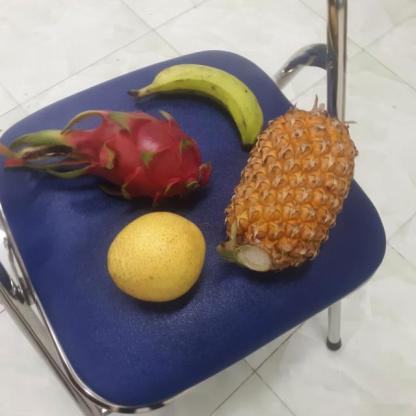banana: (145, 61, 265, 146)
pear: (105, 213, 209, 304)
pineapple: (221, 109, 358, 275)
pitaya: (68, 111, 219, 213)
